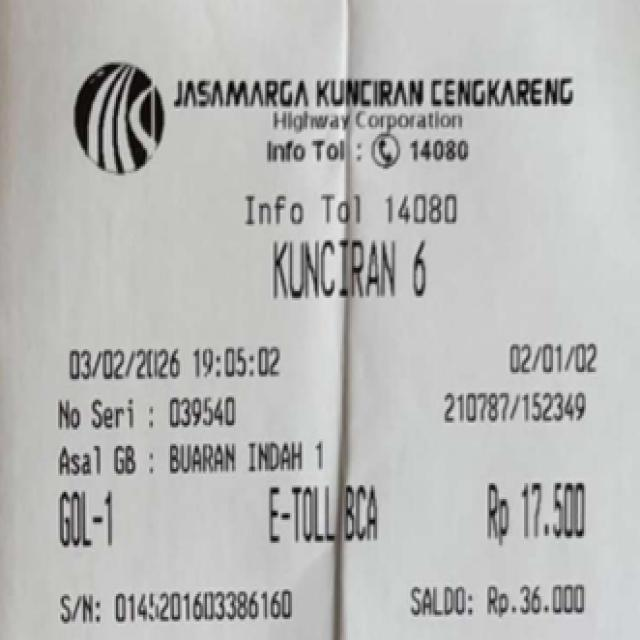date: (65, 344, 300, 382)
store: (164, 73, 597, 113)
total: (467, 471, 597, 550)
